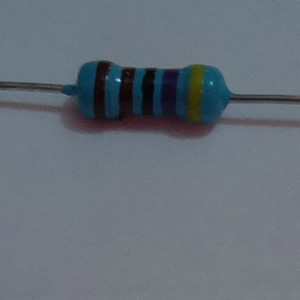black_band: (138, 66, 158, 118)
brown_band: (88, 58, 114, 122), (115, 65, 137, 119)
violet_band: (159, 66, 182, 120)
yellow_band: (186, 62, 207, 126)
